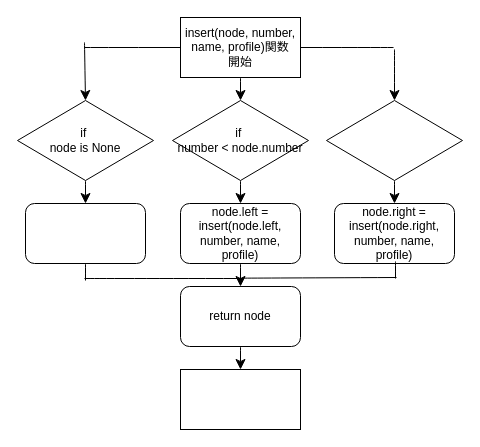
Image size: 480x447. Some labels were removed from this diagram. The centre of each missing label's shape, as x and y in pixels:
else: [394,140]
return Node(number, name, profile): [85,233]
終了: [240,399]
